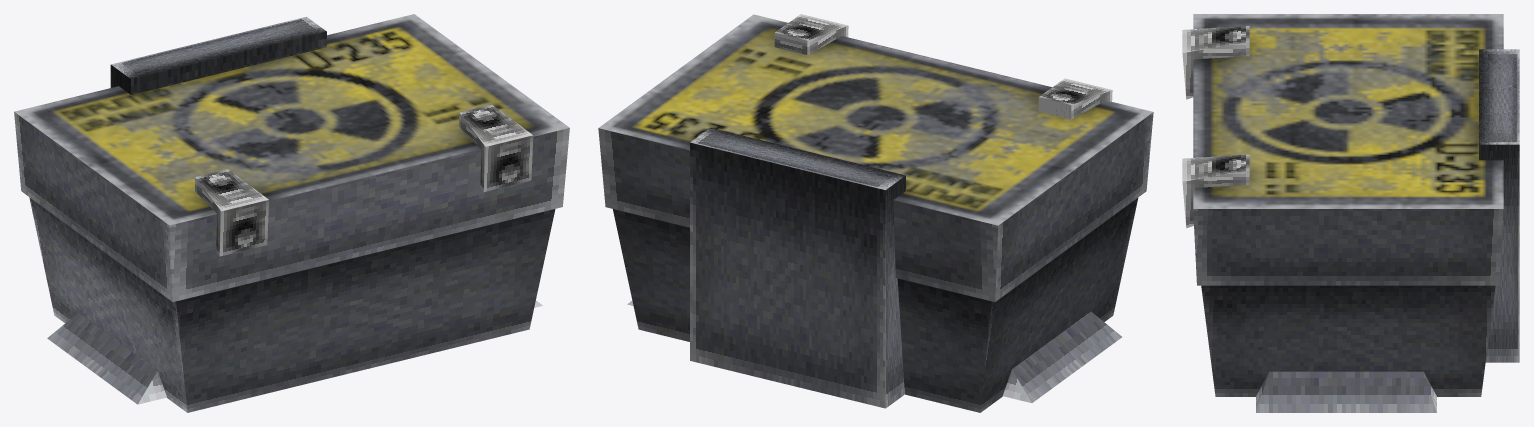
Rendered from gauss-ammo.glb.
3 renders of one model, left to right at view 1: azimuth 30°, elevation 25°; view 2: azimuth 150°, elevation 25°; view 3: azimuth 270°, elevation 25°, orthographic.
Visible parts, largest first — view 1: world_gaussammo; view 2: world_gaussammo; view 3: world_gaussammo.
Part boxes in pixels (<box>): world_gaussammo: <box>14,14,569,412</box>; world_gaussammo: <box>598,14,1153,412</box>; world_gaussammo: <box>1182,14,1519,412</box>.
Size of the model in its own units: 0.8964 by 0.4617 by 0.6466.
3 materials, 3 textured.
